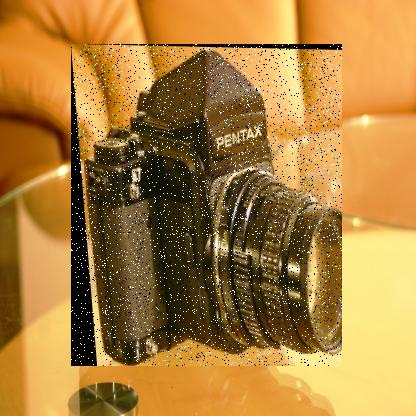Camera: (72, 45, 344, 368)
